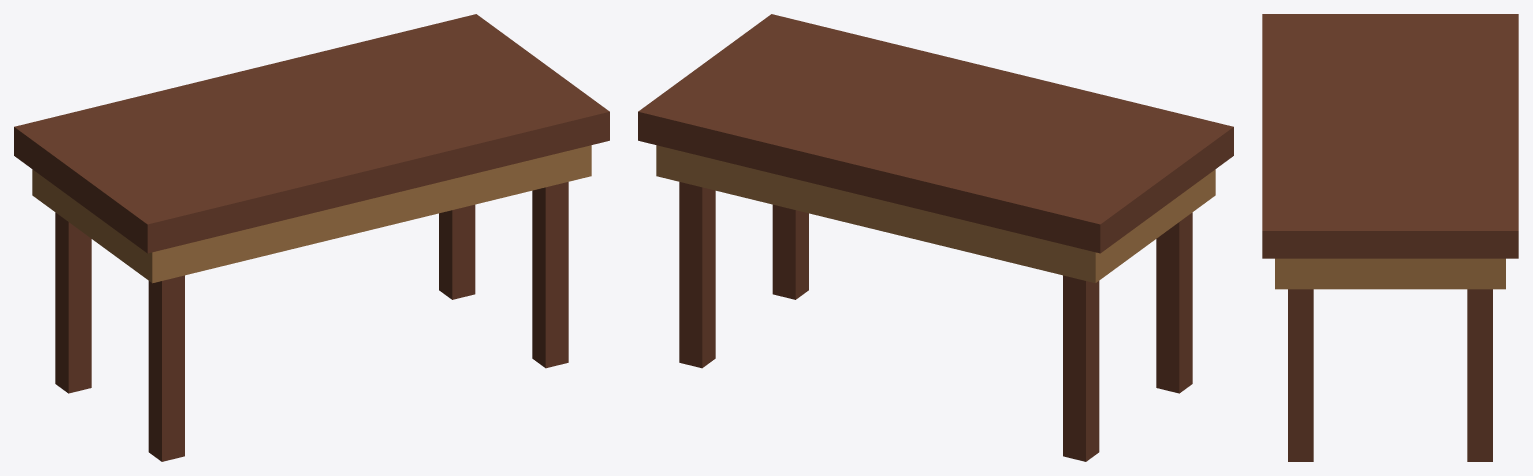
File: table.glb
3 renders of one model, left to right at view 1: azimuth 30°, elevation 25°; view 2: azimuth 150°, elevation 25°; view 3: azimuth 270°, elevation 25°, orthographic. The views are drawn at different scales.
Visible parts, largest first — view 1: 明式长案; view 2: 明式长案; view 3: 明式长案.
Boxes of the visible parts, x1,y1,x2,y2 form: 明式长案: (14,14,609,461); 明式长案: (638,14,1233,461); 明式长案: (1262,14,1518,461).
Bounding box in the file's own units: 2 × 1.05 × 1.
